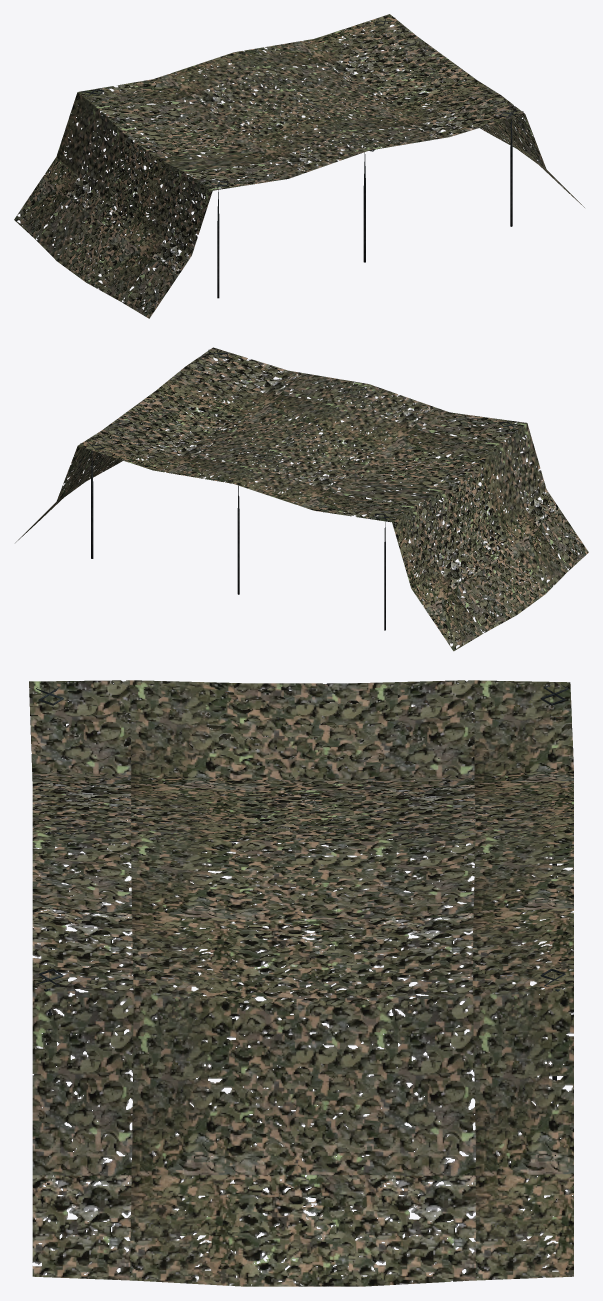
Rendered from CamoNet02.obj.
3 views of the same model, one above another, from view 1: azimuth 30°, elevation 25°; view 2: azimuth 150°, elevation 25°; view 3: azimuth 270°, elevation 25° (orthographic). The views are drawn at different scales.
Parts seen in each view (by area): view 1: CamoNet02, CamoNetSupport; view 2: CamoNet02, CamoNetSupport; view 3: CamoNet02, CamoNetSupport.
Part boxes in pixels (box(x1,y1,x2,y2)): CamoNet02: box(14, 14, 584, 318); CamoNetSupport: box(82, 18, 523, 298); CamoNet02: box(15, 347, 588, 651); CamoNetSupport: box(80, 349, 519, 630); CamoNet02: box(29, 680, 573, 1286); CamoNetSupport: box(36, 684, 568, 1200).
Bounding box in the file's own units: 31.4 × 7.6 × 16.11.
